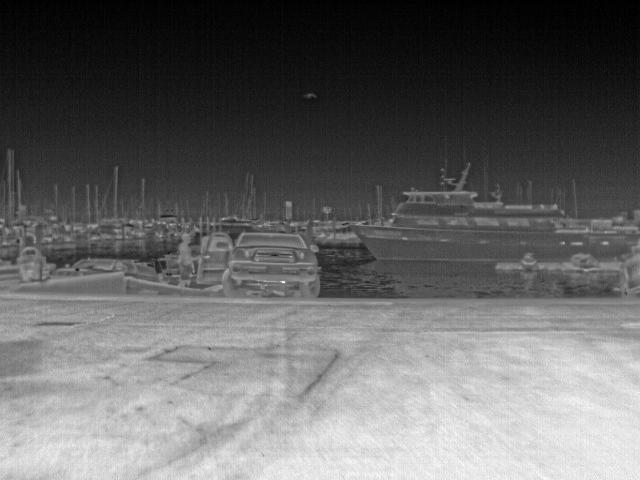car: (196, 228, 324, 297)
person: (176, 232, 197, 287)
